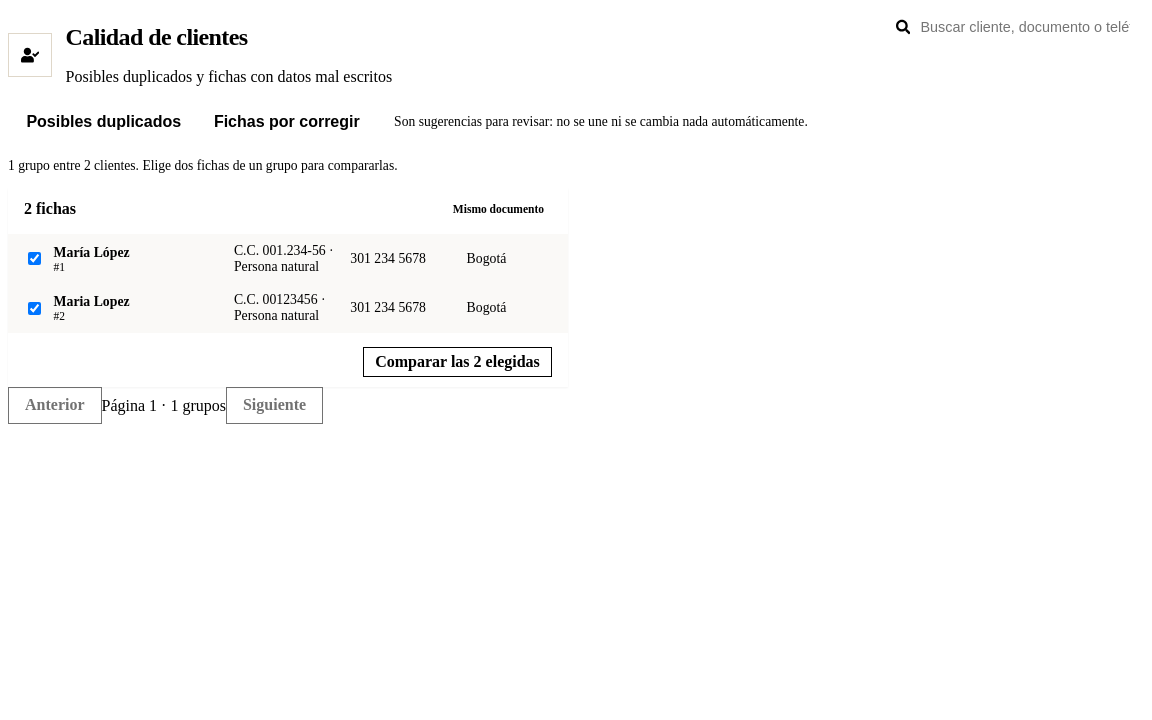
Test: Calidad de clientes (pestaña de Bases de datos) › sin EDITAR_CLIENTE queda en modo lectura
This screenshot has width=1152, height=720.
Click the tab "Fichas por corregir". click: click(287, 122)
box: [200,106,374,138]
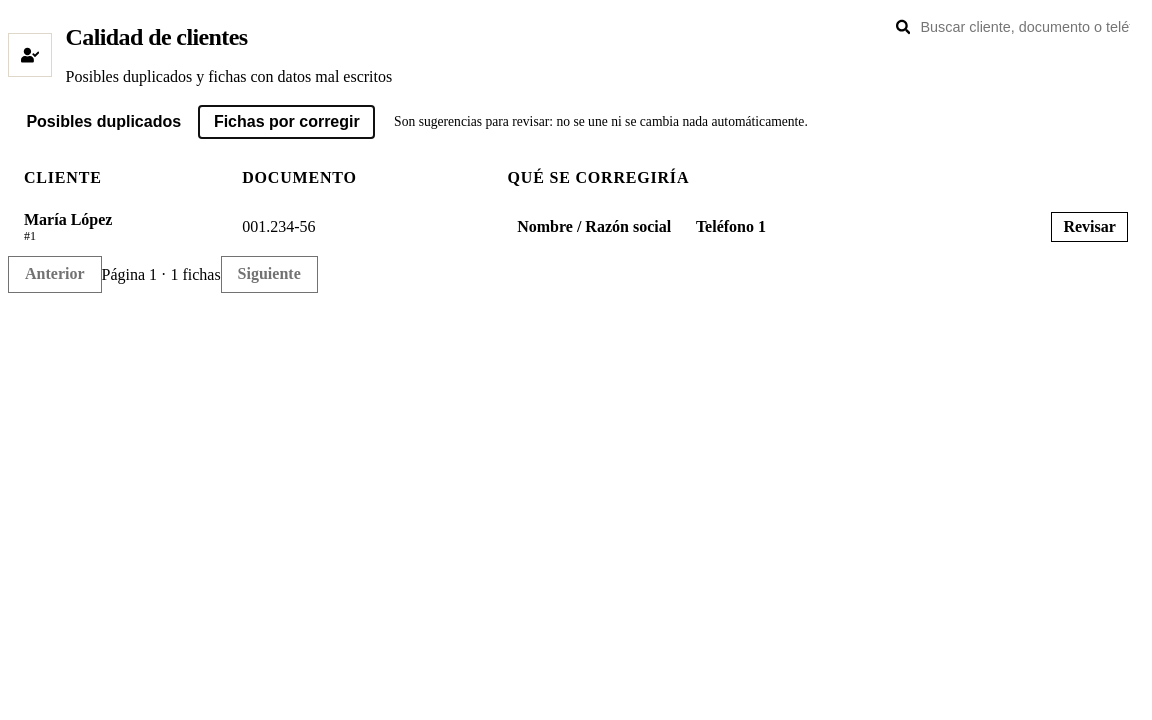
Click the button with aria-label "Revisar cliente 1". click: click(1090, 227)
box: [1051,212,1128,242]
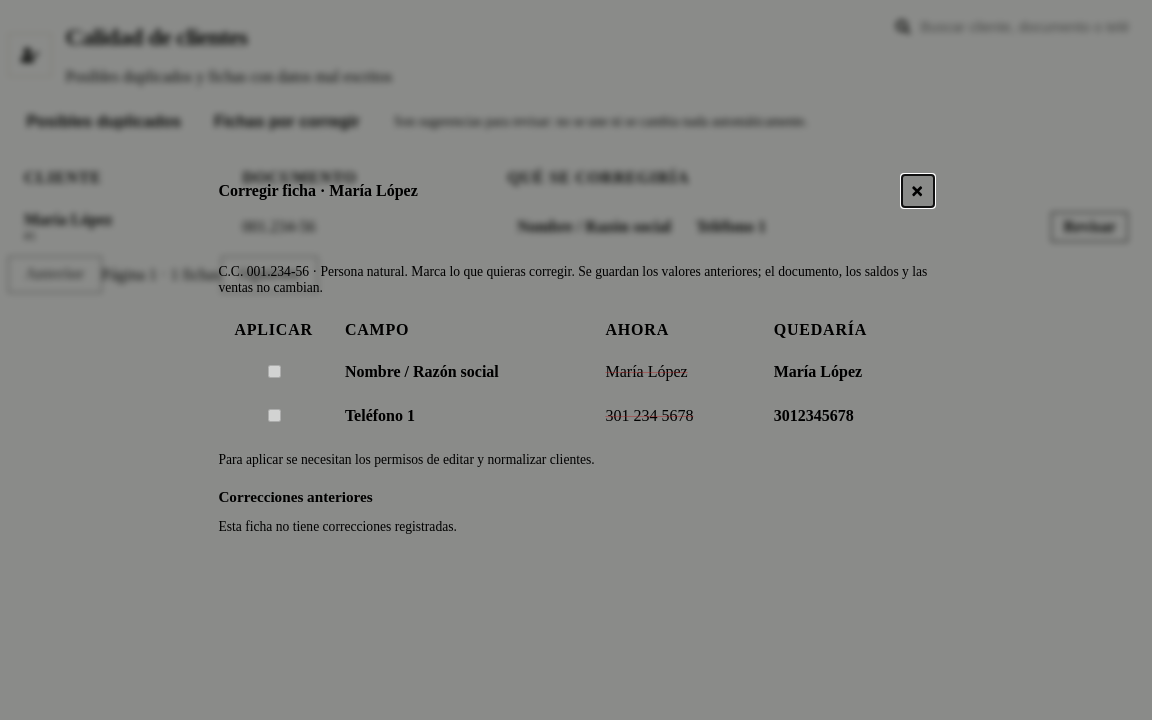
Result: the checkbox named "Corregir Teléfono 1" is disabled at [268,409,281,422]
